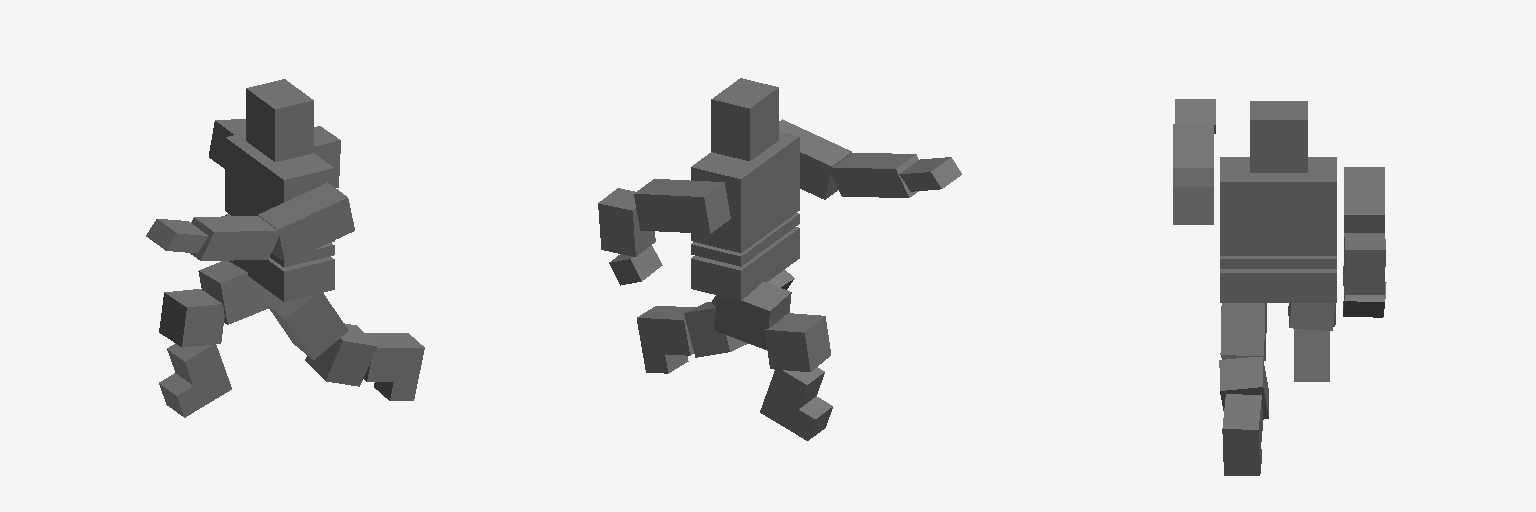
The model's file is POne-3.obj.
3 views of the same model, side by side, from view 1: azimuth 30°, elevation 25°; view 2: azimuth 150°, elevation 25°; view 3: azimuth 270°, elevation 25° (orthographic).
Parts seen in each view (by area): view 1: POne3:group4 POne3:pasted__group3 POne3:pasted__pasted__pCube3 P, POne3:pCube4 POne3:polySurface1, POne3:group7 POne3:pasted__pCube4 POne3:polySurface1, POne3:group5 POne3:pasted__pCube1 POne3:polySurface1, POne3:group8 POne3:pasted__pCube4 POne3:polySurface1, POne3:group1 POne3:pasted__pCube2 POne3:polySurface1, POne3:group2 POne3:pasted__pCube2 POne3:polySurface1, POne3:pCube1 POne3:polySurface1, POne3:pCube3 POne3:polySurface1, POne3:group2 POne3:pasted__group1 POne3:pasted__pasted__pCube2 P, POne3:pCube2 POne3:polySurface1, POne3:group9 POne3:pasted__group8 POne3:pasted__pasted__pCube4 P (+3 smaller); view 2: POne3:group4 POne3:pasted__group3 POne3:pasted__pasted__pCube3 P, POne3:pCube4 POne3:polySurface1, POne3:group6 POne3:pasted__pCube4 POne3:polySurface1, POne3:pCube3 POne3:polySurface1, POne3:group5 POne3:pasted__pCube1 POne3:polySurface1, POne3:group1 POne3:pasted__pCube2 POne3:polySurface1, POne3:group8 POne3:pasted__pCube4 POne3:polySurface1, POne3:group2 POne3:pasted__group1 POne3:pasted__pasted__pCube2 P, POne3:pCube1 POne3:polySurface1, POne3:group8 POne3:pasted__group6 POne3:pasted__pasted__pCube4 P, POne3:group7 POne3:pasted__pCube4 POne3:polySurface1, POne3:pCube2 POne3:polySurface1 (+3 smaller); view 3: POne3:group4 POne3:pasted__group3 POne3:pasted__pasted__pCube3 P, POne3:pCube4 POne3:polySurface1, POne3:pCube3 POne3:polySurface1, POne3:pCube1 POne3:polySurface1, POne3:group6 POne3:pasted__pCube4 POne3:polySurface1, POne3:group8 POne3:pasted__group6 POne3:pasted__pasted__pCube4 P, POne3:group2 POne3:pasted__pCube2 POne3:polySurface1, POne3:group7 POne3:pasted__pCube4 POne3:polySurface1, POne3:pCube2 POne3:polySurface1, POne3:group5 POne3:pasted__pCube1 POne3:polySurface1, POne3:group8 POne3:pasted__pCube4 POne3:polySurface1, POne3:group3 POne3:pasted__pCube3 POne3:polySurface1 (+3 smaller).
Boxes of the visible parts, box(x1,y1,x2,y2) form: POne3:group4 POne3:pasted__group3 POne3:pasted__pasted__pCube3 P: box(225, 132, 334, 242); POne3:pCube4 POne3:polySurface1: box(246, 79, 313, 161); POne3:group7 POne3:pasted__pCube4 POne3:polySurface1: box(258, 182, 354, 262); POne3:group5 POne3:pasted__pCube1 POne3:polySurface1: box(159, 343, 231, 417); POne3:group8 POne3:pasted__pCube4 POne3:polySurface1: box(190, 216, 280, 260); POne3:group1 POne3:pasted__pCube2 POne3:polySurface1: box(159, 289, 224, 347); POne3:group2 POne3:pasted__pCube2 POne3:polySurface1: box(266, 293, 348, 359); POne3:pCube1 POne3:polySurface1: box(363, 333, 424, 400); POne3:pCube3 POne3:polySurface1: box(229, 256, 334, 301); POne3:group2 POne3:pasted__group1 POne3:pasted__pasted__pCube2 P: box(198, 261, 274, 324); POne3:pCube2 POne3:polySurface1: box(305, 323, 376, 386); POne3:group9 POne3:pasted__group8 POne3:pasted__pasted__pCube4 P: box(146, 219, 208, 252); POne3:group4 POne3:pasted__group3 POne3:pasted__pasted__pCube3 P: box(691, 131, 799, 252); POne3:pCube4 POne3:polySurface1: box(711, 78, 778, 160); POne3:group6 POne3:pasted__pCube4 POne3:polySurface1: box(634, 179, 730, 233); POne3:pCube3 POne3:polySurface1: box(691, 227, 799, 300); POne3:group5 POne3:pasted__pCube1 POne3:polySurface1: box(760, 367, 832, 440); POne3:group1 POne3:pasted__pCube2 POne3:polySurface1: box(764, 313, 830, 371); POne3:group8 POne3:pasted__pCube4 POne3:polySurface1: box(829, 153, 918, 197); POne3:group2 POne3:pasted__group1 POne3:pasted__pasted__pCube2 P: box(714, 282, 791, 349); POne3:pCube1 POne3:polySurface1: box(637, 306, 695, 373); POne3:group8 POne3:pasted__group6 POne3:pasted__pasted__pCube4 P: box(598, 188, 655, 256); POne3:group7 POne3:pasted__pCube4 POne3:polySurface1: box(779, 119, 851, 199); POne3:pCube2 POne3:polySurface1: box(684, 302, 747, 357); POne3:group4 POne3:pasted__group3 POne3:pasted__pasted__pCube3 P: box(1220, 157, 1336, 255); POne3:pCube4 POne3:polySurface1: box(1250, 101, 1307, 172); POne3:pCube3 POne3:polySurface1: box(1220, 269, 1336, 302); POne3:pCube1 POne3:polySurface1: box(1222, 394, 1262, 475); POne3:group6 POne3:pasted__pCube4 POne3:polySurface1: box(1344, 167, 1384, 232); POne3:group8 POne3:pasted__group6 POne3:pasted__pasted__pCube4 P: box(1343, 233, 1385, 294); POne3:group2 POne3:pasted__pCube2 POne3:polySurface1: box(1220, 303, 1266, 360); POne3:group7 POne3:pasted__pCube4 POne3:polySurface1: box(1173, 168, 1213, 224); POne3:pCube2 POne3:polySurface1: box(1219, 357, 1268, 419); POne3:group5 POne3:pasted__pCube1 POne3:polySurface1: box(1294, 329, 1329, 381); POne3:group8 POne3:pasted__pCube4 POne3:polySurface1: box(1173, 124, 1213, 167); POne3:group3 POne3:pasted__pCube3 POne3:polySurface1: box(1220, 256, 1336, 268).
Bounding box in the file's own units: 5.63 × 5.92 × 3.66.